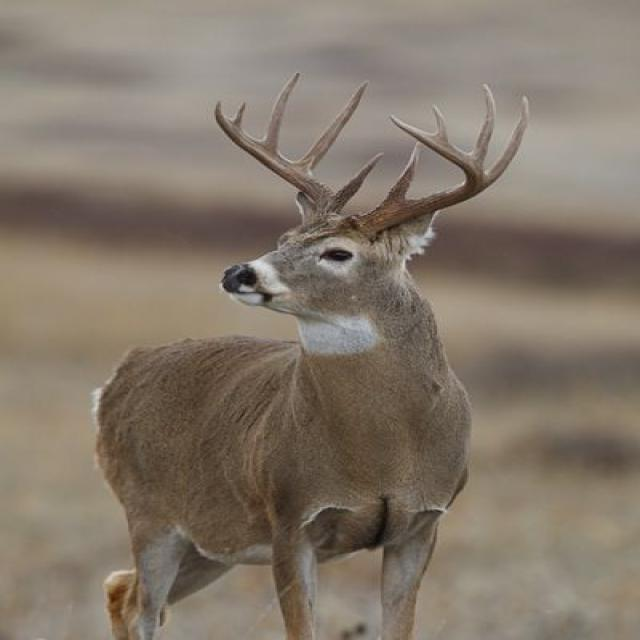L-F: (350, 113, 485, 244)
L-G1: (384, 141, 422, 201)
L-G2: (486, 95, 530, 190)
L-G3: (469, 82, 498, 166)
L-G4: (430, 102, 449, 143)
R-F: (213, 99, 342, 217)
R-G1: (335, 152, 385, 208)
R-G2: (293, 79, 371, 176)
R-G3: (263, 70, 302, 154)
R-G4: (232, 101, 247, 133)
